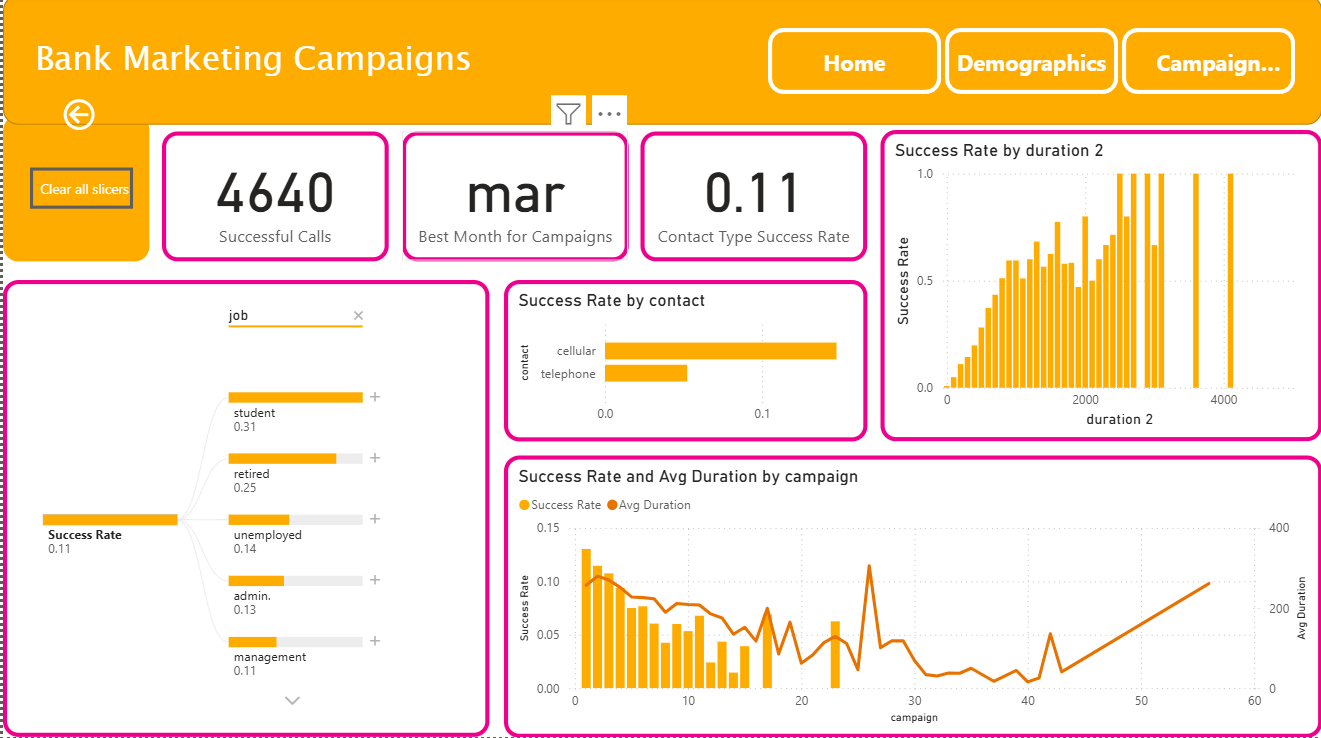

This screenshot's page, from the dashboard's own definition file:
{"tool":"powerbi","page":{"name":"campaign effectiveness","canvas":[1280,720],"ordinal":2},"visuals":[{"type":"clusteredColumnChart","fields":{"Category":["bank-additional-full.duration 2"],"Y":["bank-additional-full.Success Rate"]},"box":[851.6,131.6,428.4,302.1],"z":0},{"type":"barChart","fields":{"Category":["bank-additional-full.contact"],"Y":["bank-additional-full.Success Rate"]},"box":[486.3,276.8,352.6,156.8],"z":1000},{"type":"lineClusteredColumnComboChart","fields":{"Category":["bank-additional-full.campaign"],"Y":["bank-additional-full.Success Rate"],"Y2":["bank-additional-full.Avg Duration"]},"box":[486.3,446.3,793.7,273.7],"z":2000},{"type":"decompositionTreeVisual","fields":{"Analyze":["bank-additional-full.Success Rate"],"ExplainBy":["bank-additional-full.job","bank-additional-full.contact","bank-additional-full.duration","bank-additional-full.education","bank-additional-full.month","bank-additional-full.age","bank-additional-full.marital"]},"box":[0,277,472,443],"z":3000},{"type":"shape","box":[0,115.7,142.3,142.3],"z":4000},{"type":"shape","box":[0,0,1280,126],"z":5000},{"type":"textbox","box":[26,32,472,78],"z":6000},{"type":"actionButton","title":"Go to Demographics","box":[742,32,168,64],"z":7000},{"type":"actionButton","title":"Go to Demographics","box":[914,32,168,64],"z":8000},{"type":"actionButton","title":"Go to Demographics","box":[1086,32,168,64],"z":9000},{"type":"actionButton","box":[25.7,167.1,100,40],"z":10000},{"type":"card","fields":{"Values":["bank-additional-full.Successful Calls"]},"box":[154.7,132,220,126],"z":11000},{"type":"card","fields":{"Values":["bank-additional-full.Contact Type Success Rate"]},"box":[619.3,132,220,126],"z":12000},{"type":"card","fields":{"Values":["bank-additional-full.Best Month for Campaigns"]},"box":[387,132,220,126],"z":13000},{"type":"actionButton","box":[54.3,95.7,100,40],"z":14000}]}

Visuals, with their boxes in screenshot pixels (x1, y1, x2, y2), scaled from the page's 1280x720 canvas onto the 1321x738 screenshot:
clusteredColumnChart - bank-additional-full.duration 2 x bank-additional-full.Success Rate: <region>879, 135, 1320, 445</region>
barChart - bank-additional-full.contact x bank-additional-full.Success Rate: <region>502, 284, 866, 444</region>
lineClusteredColumnComboChart - bank-additional-full.campaign x bank-additional-full.Success Rate: <region>502, 457, 1320, 737</region>
decompositionTreeVisual - bank-additional-full.Success Rate x bank-additional-full.job: <region>0, 284, 487, 737</region>
shape: <region>0, 119, 147, 264</region>
shape: <region>0, 0, 1320, 129</region>
textbox: <region>27, 33, 514, 113</region>
"Go to Demographics" actionButton: <region>766, 33, 939, 98</region>
"Go to Demographics" actionButton: <region>943, 33, 1117, 98</region>
"Go to Demographics" actionButton: <region>1121, 33, 1294, 98</region>
actionButton: <region>27, 171, 130, 212</region>
card - bank-additional-full.Successful Calls: <region>160, 135, 387, 264</region>
card - bank-additional-full.Contact Type Success Rate: <region>639, 135, 866, 264</region>
card - bank-additional-full.Best Month for Campaigns: <region>399, 135, 626, 264</region>
actionButton: <region>56, 98, 159, 139</region>
